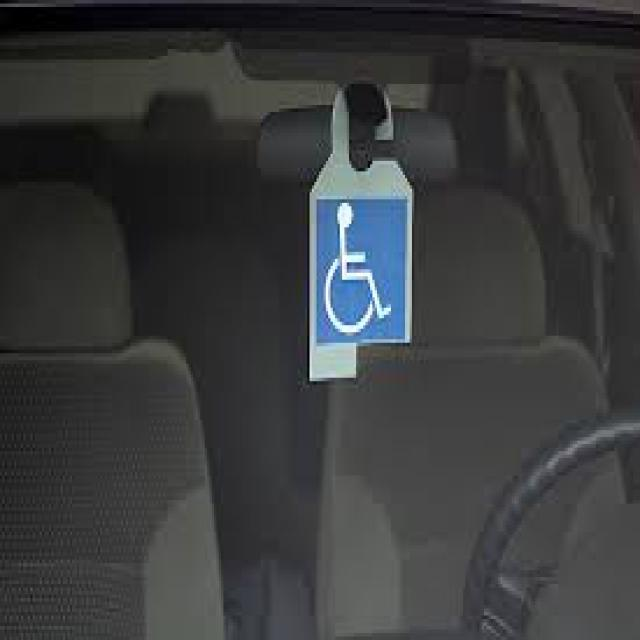car-handicap-placard: (325, 202, 392, 334)
